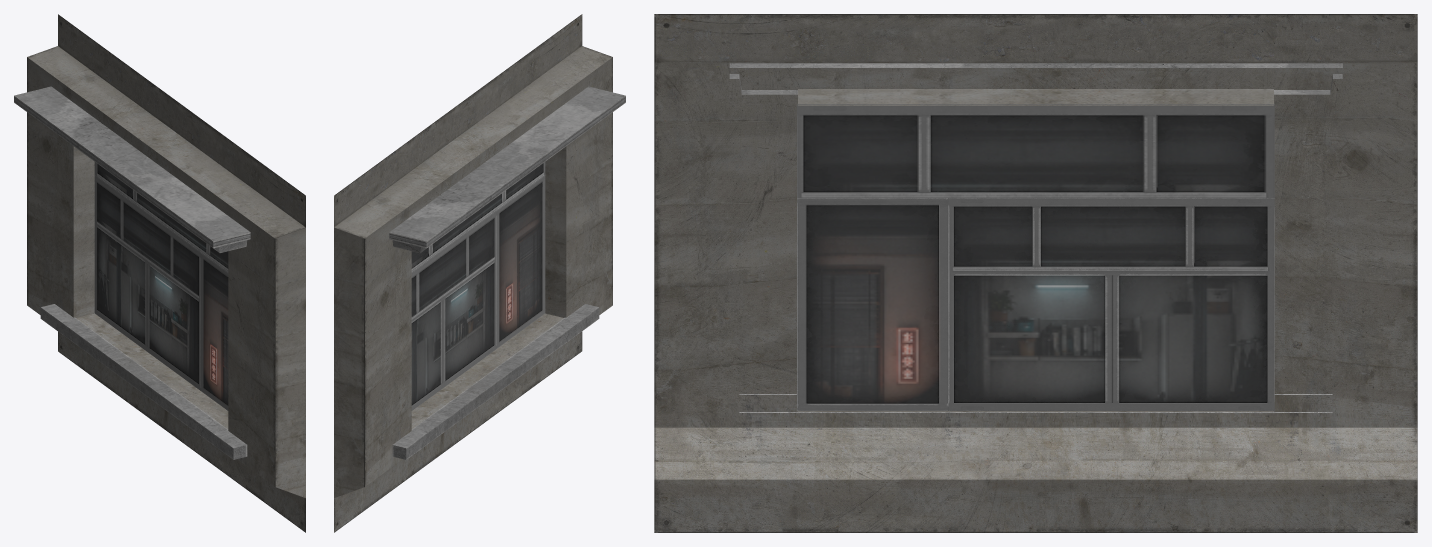
The model's file is CP_Windows_C_4x3m_06.fbx.
3 renders of one model, left to right at view 1: azimuth 30°, elevation 25°; view 2: azimuth 150°, elevation 25°; view 3: azimuth 270°, elevation 25°, orthographic. The views are drawn at different scales.
Visible parts, largest first — view 1: CP_Windows_C_4x3m_06; view 2: CP_Windows_C_4x3m_06; view 3: CP_Windows_C_4x3m_06.
Part boxes in pixels (x1,y1,x2,y2): CP_Windows_C_4x3m_06: (14, 14, 305, 532); CP_Windows_C_4x3m_06: (334, 14, 625, 532); CP_Windows_C_4x3m_06: (654, 14, 1417, 532).
Size of the model in its own units: 63.5 by 300 by 400.
